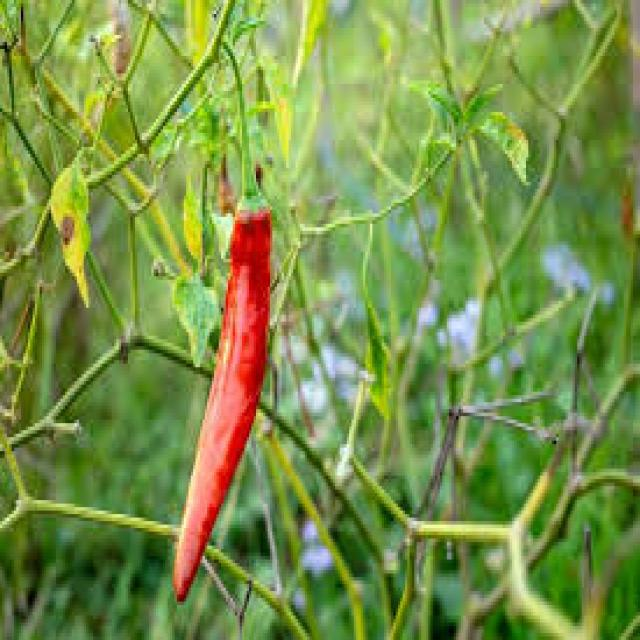chili: (174, 207, 271, 600)
